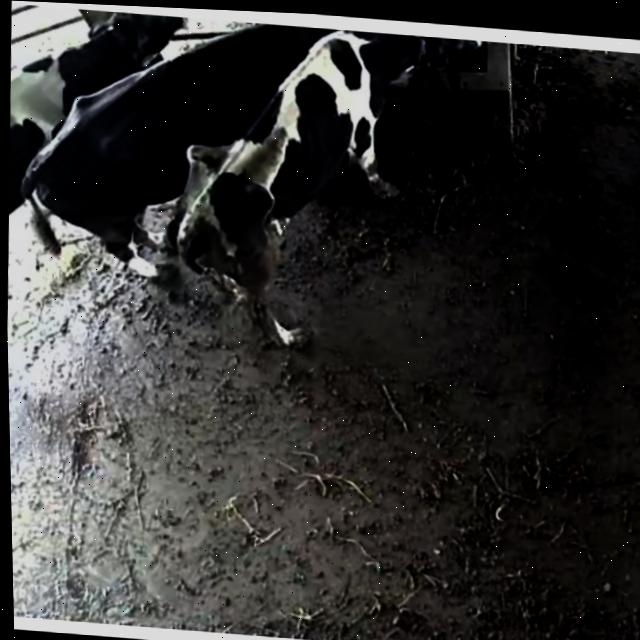drink: (211, 19, 351, 111)
